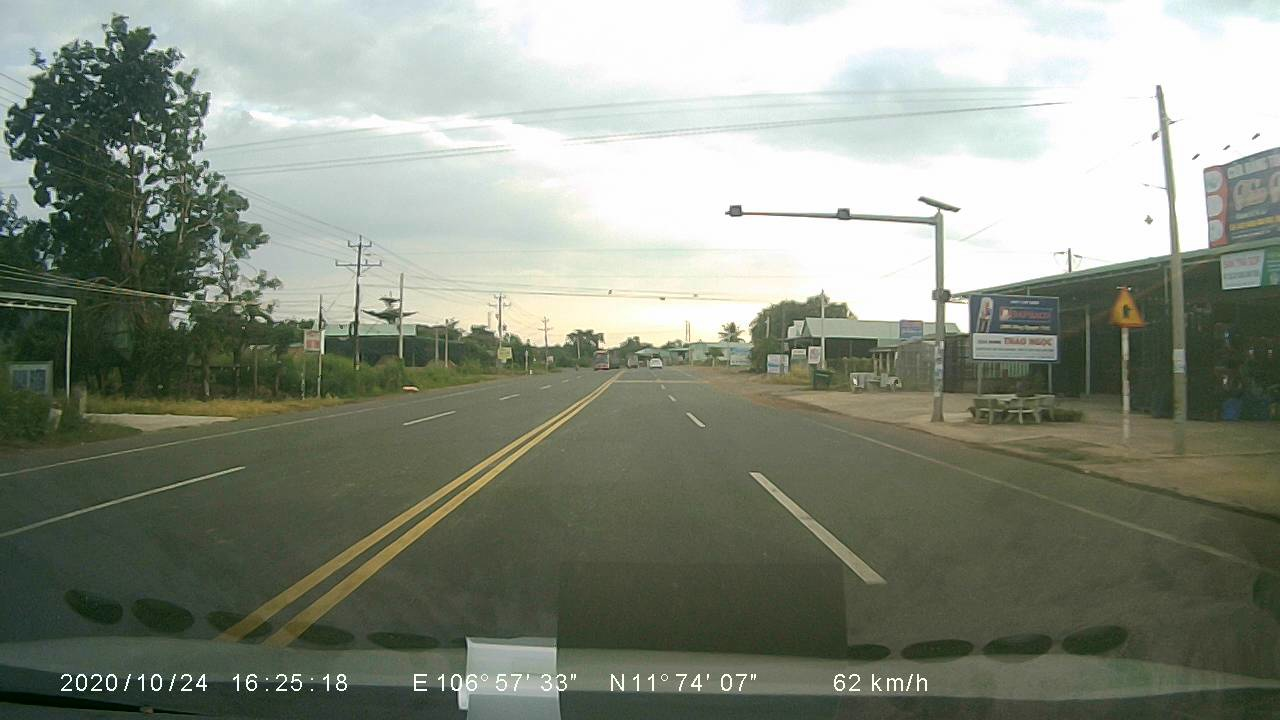Giao nhau voi duong khong uu tien: (1104, 283, 1149, 330)
